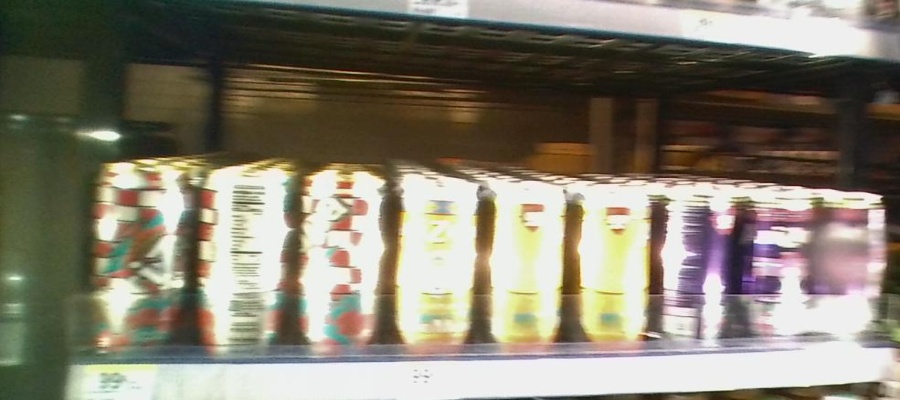bottle: (88, 150, 193, 360), (195, 151, 291, 362), (293, 153, 387, 360), (391, 157, 481, 356), (571, 169, 659, 358), (483, 163, 567, 356), (737, 173, 815, 350), (661, 166, 733, 350), (818, 177, 887, 348)
